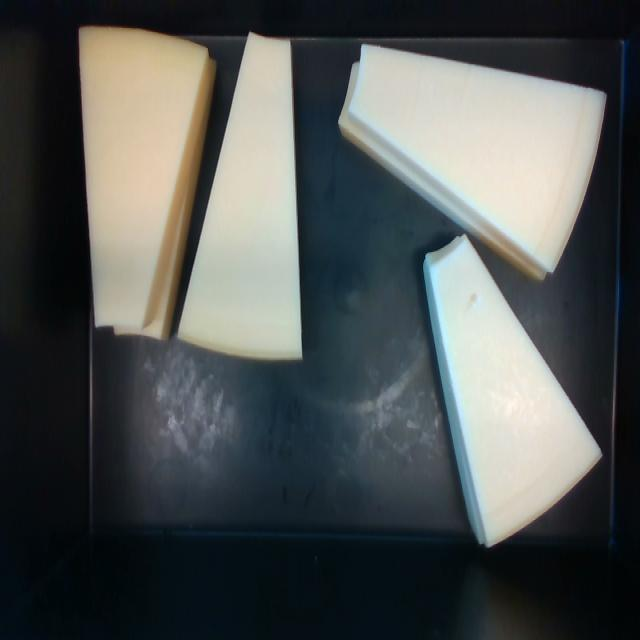cheese: (349, 45, 605, 276), (424, 237, 600, 545), (178, 35, 301, 357), (79, 28, 206, 327)
